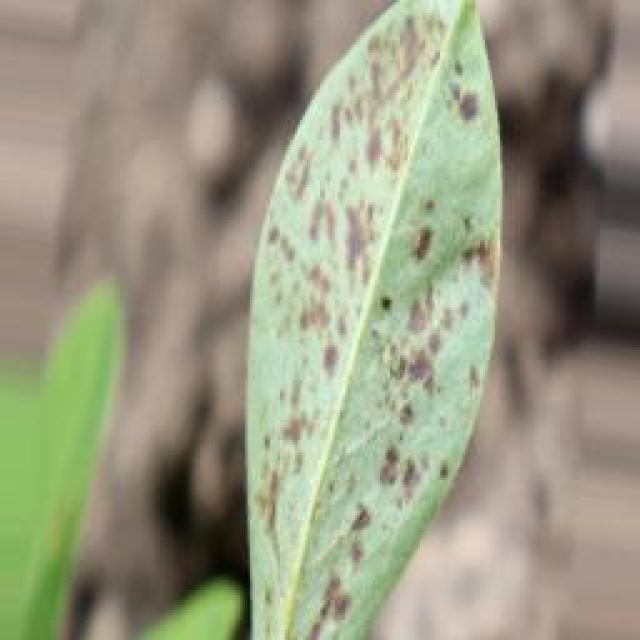Whitefly: (196, 0, 509, 640)
